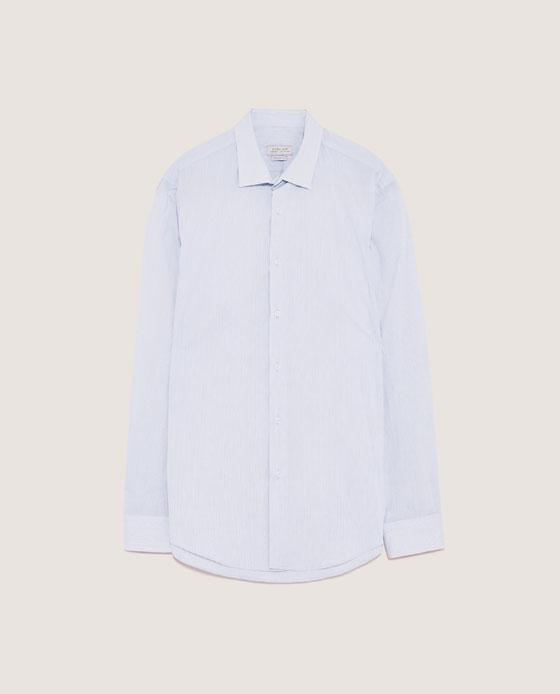teeshirt: (113, 100, 466, 598)
